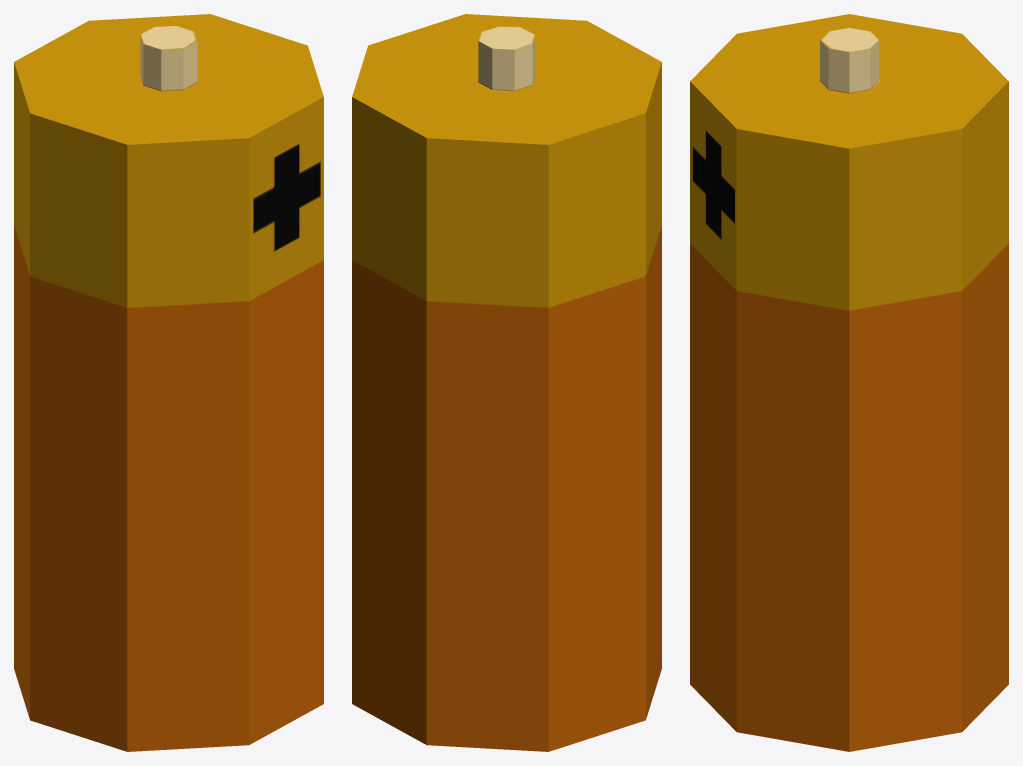
Rendered from BATTERY.fbx.
3 renders of one model, left to right at view 1: azimuth 30°, elevation 25°; view 2: azimuth 150°, elevation 25°; view 3: azimuth 270°, elevation 25°, orthographic.
Parts seen in each view (by area): view 1: charges_1; view 2: charges_1; view 3: charges_1.
Boxes of the visible parts, x1=… form: charges_1: x1=14, y1=14, x2=323, y2=751; charges_1: x1=352, y1=14, x2=661, y2=751; charges_1: x1=690, y1=14, x2=1008, y2=751.
Bounding box in the file's own units: 7.79 × 17.39 × 7.79.
Materials: 1 (1 with a texture image).
